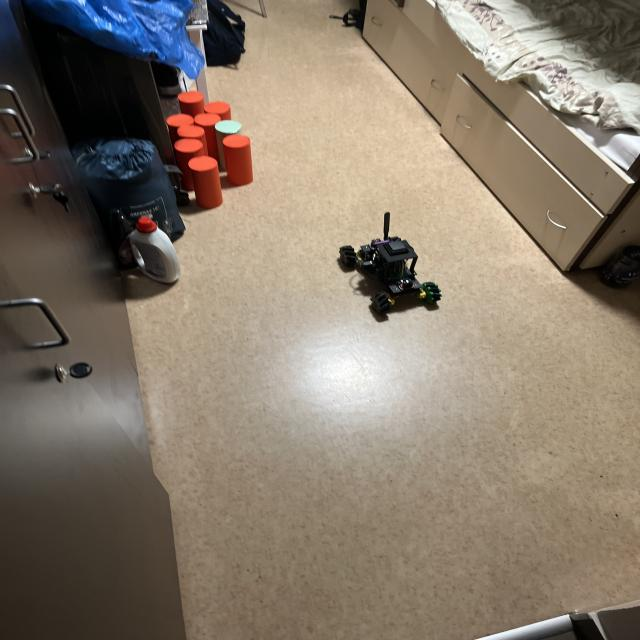robot: (339, 212, 441, 314)
